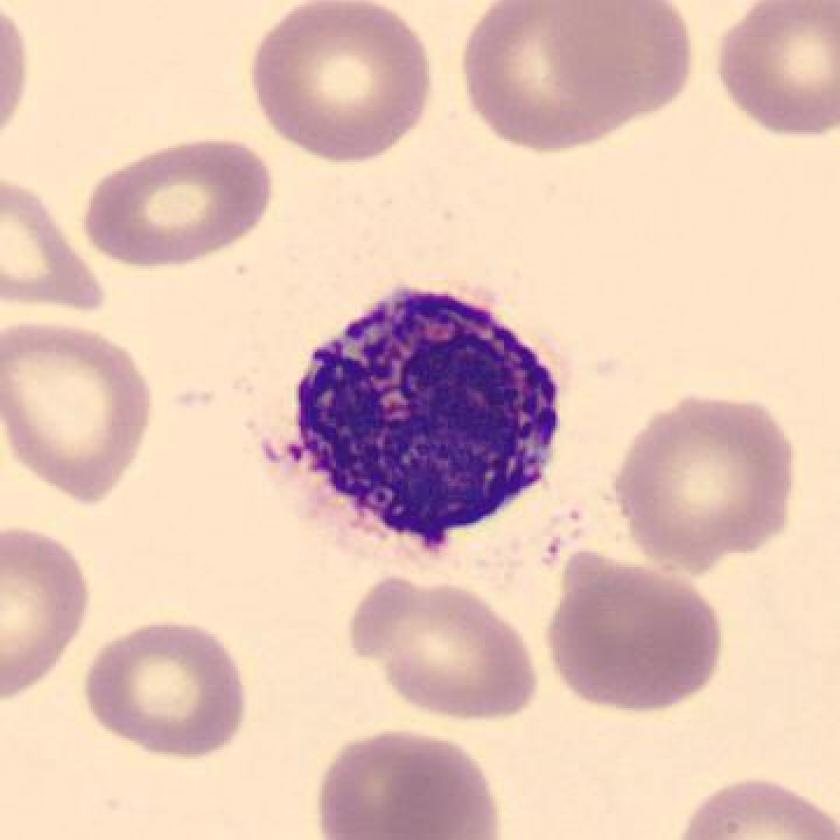basophil: (274, 286, 575, 550)
